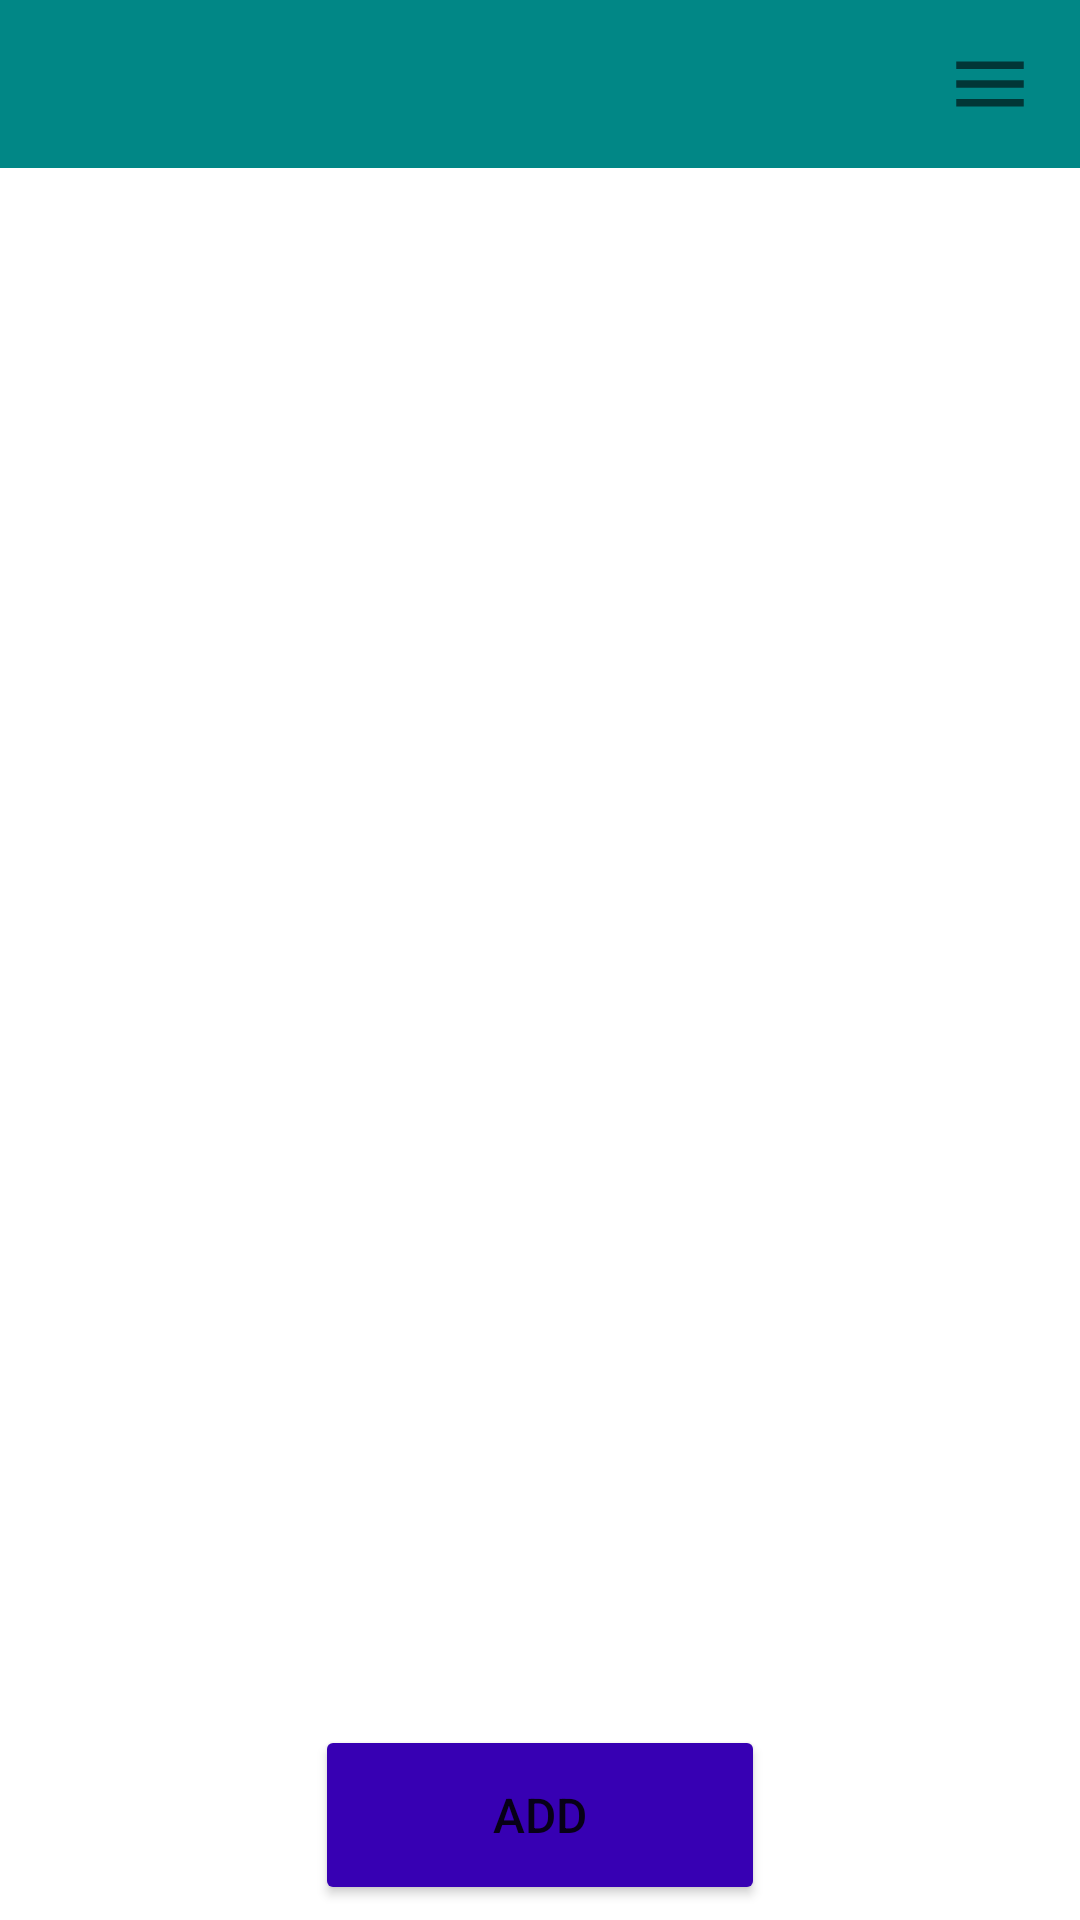

Where icons sit on this 1080px x 1920px app screen, as (x1, y1, x2, y2):
menu: (956, 61, 1024, 107)
